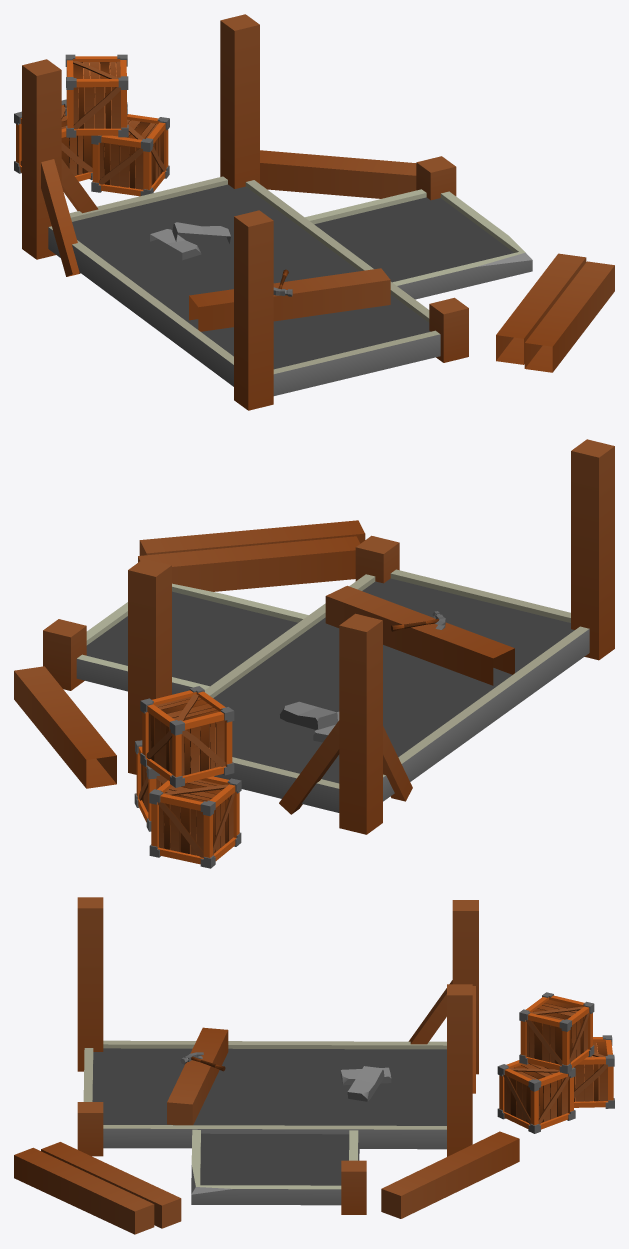
File: storage_d_01.fbx
The picture shows the model from 3 angles, top to bottom: view 1: azimuth 30°, elevation 25°; view 2: azimuth 150°, elevation 25°; view 3: azimuth 270°, elevation 25°; orthographic projection. The views are drawn at different scales.
Parts seen in each view (by area): view 1: Box072.021; view 2: Box072.021; view 3: Box072.021.
Boxes of the visible parts, box(x1,y1,x2,y2) form: Box072.021: box(14, 14, 614, 410); Box072.021: box(14, 439, 614, 868); Box072.021: box(14, 897, 614, 1234).
Size of the model in its own units: 7.26 by 3.25 by 10.65.
